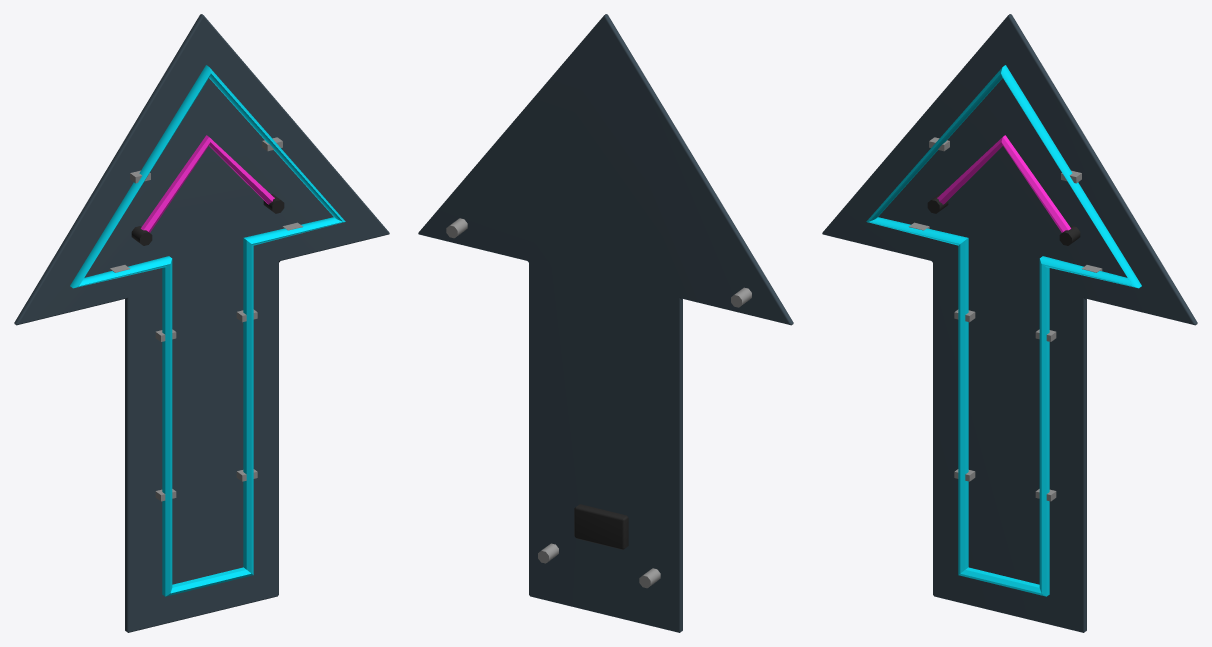
Rendered from Metro_Neon_Arrow.fbx.
3 views of the same model, side by side, from view 1: azimuth 30°, elevation 25°; view 2: azimuth 150°, elevation 25°; view 3: azimuth 330°, elevation 25° (orthographic).
Visible parts, largest first — view 1: Metro_Neon_Arrow_LOD0; view 2: Metro_Neon_Arrow_LOD0; view 3: Metro_Neon_Arrow_LOD0.
Boxes of the visible parts, bbox=[...] form: Metro_Neon_Arrow_LOD0: bbox=[14, 14, 389, 632]; Metro_Neon_Arrow_LOD0: bbox=[418, 14, 793, 632]; Metro_Neon_Arrow_LOD0: bbox=[822, 14, 1197, 632].
Size of what is drawn, in the model's own units: 0.7364 by 1.13 by 0.075.
